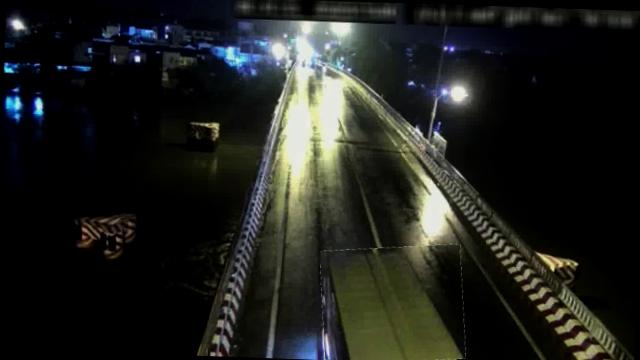Truck: (318, 242, 467, 360)
